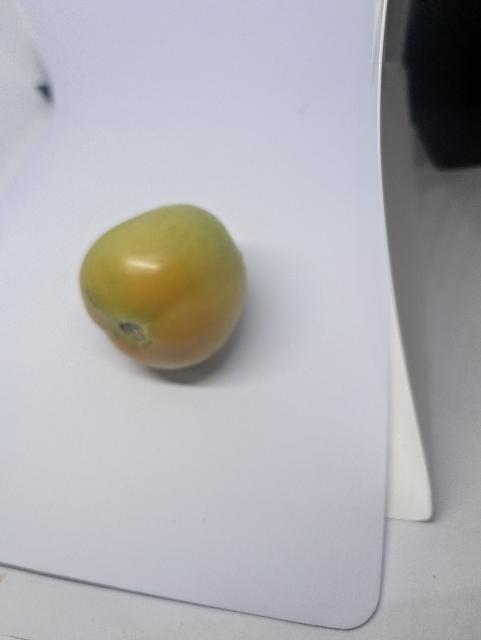breaker: (73, 204, 262, 386)
